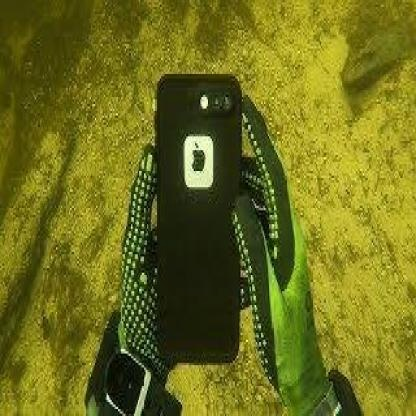cellphone: (154, 72, 240, 365)
